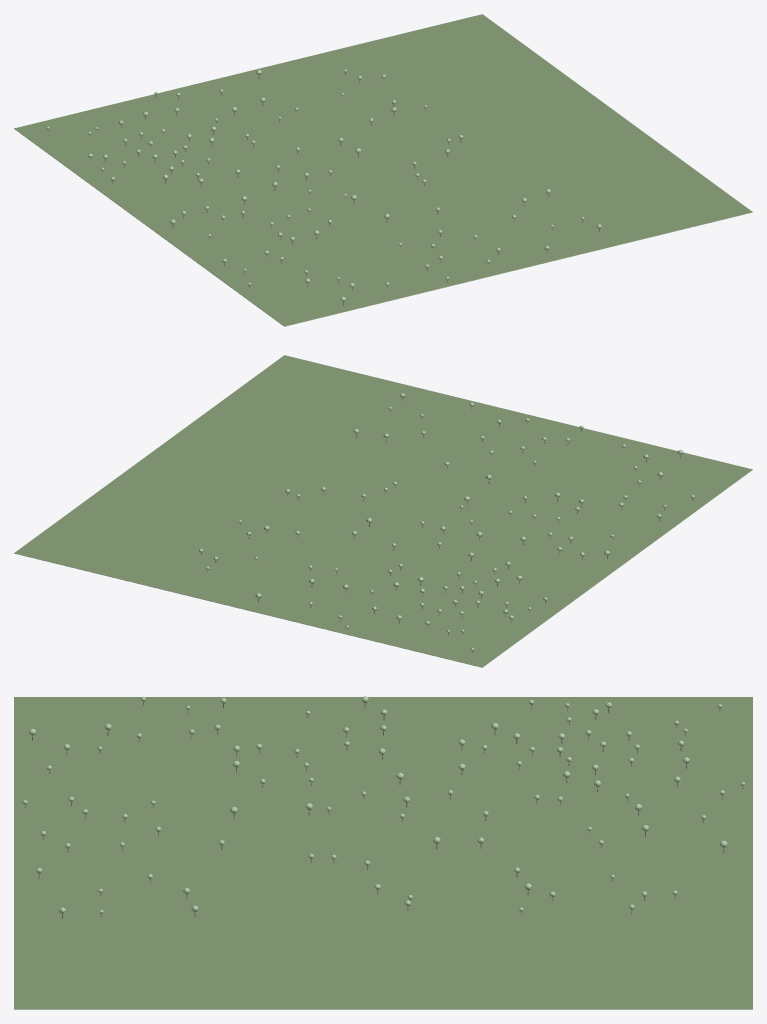
File: chunk_7_3_high.glb
The picture shows the model from 3 angles, top to bottom: view 1: azimuth 30°, elevation 25°; view 2: azimuth 150°, elevation 25°; view 3: azimuth 270°, elevation 25°; orthographic projection. The views are drawn at different scales.
Visible parts, largest first — view 1: city_forest_floor, city_foliage, city_grass, city_foliage_dark; view 2: city_forest_floor, city_foliage, city_grass, city_foliage_dark; view 3: city_forest_floor, city_foliage, city_foliage_dark, city_grass, city_bark.
Part boxes in pixels (x1=…): city_forest_floor: x1=14, y1=14, x2=752, y2=326; city_foliage: x1=47, y1=69, x2=601, y2=301; city_grass: x1=14, y1=129, x2=752, y2=326; city_foliage_dark: x1=46, y1=70, x2=601, y2=300; city_forest_floor: x1=14, y1=355, x2=752, y2=667; city_foliage: x1=199, y1=393, x2=694, y2=650; city_grass: x1=14, y1=470, x2=752, y2=667; city_foliage_dark: x1=199, y1=394, x2=694, y2=650; city_forest_floor: x1=14, y1=697, x2=752, y2=1009; city_foliage: x1=22, y1=696, x2=745, y2=913; city_foliage_dark: x1=24, y1=698, x2=744, y2=913; city_grass: x1=14, y1=1009, x2=752, y2=1009; city_bark: x1=24, y1=702, x2=743, y2=918.
Size of the model in its own units: 512 by 9.78 by 512.
